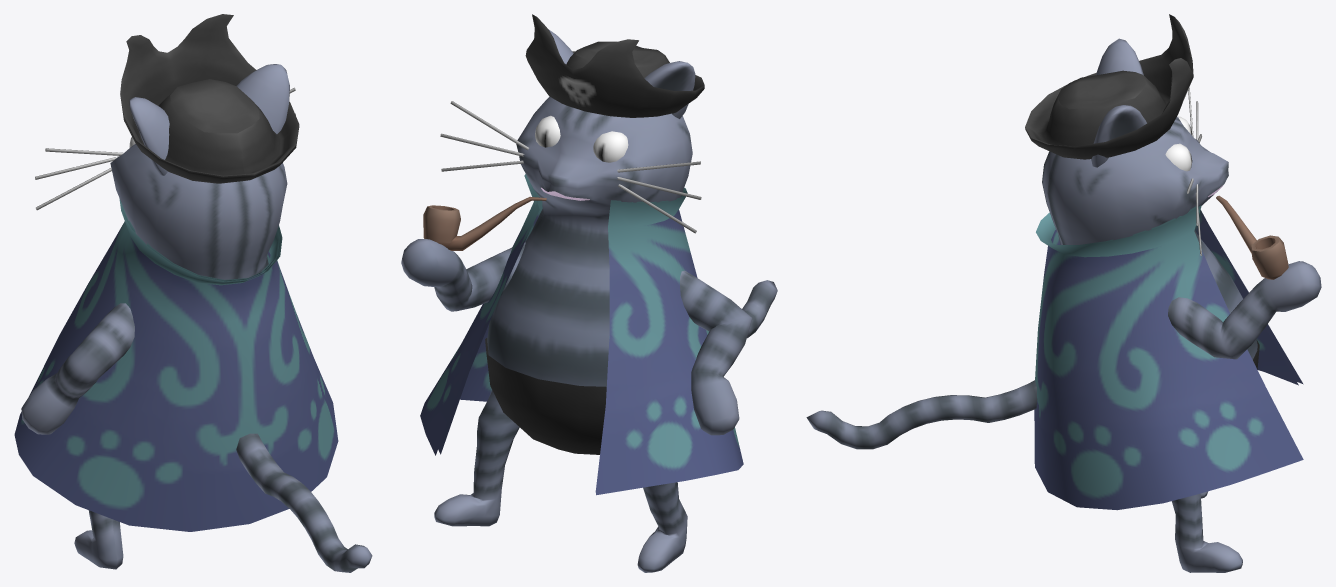
File: neko_idle_a_01.fbx
The picture shows the model from 3 angles, left to right: view 1: azimuth 30°, elevation 25°; view 2: azimuth 150°, elevation 25°; view 3: azimuth 270°, elevation 25°; orthographic projection. The views are drawn at different scales.
Visible parts, largest first — view 1: I_a_01; view 2: I_a_01; view 3: I_a_01.
Boxes of the visible parts, x1=… form: I_a_01: x1=14, y1=14, x2=372, y2=572; I_a_01: x1=401, y1=14, x2=777, y2=572; I_a_01: x1=806, y1=14, x2=1321, y2=572.
Size of the model in its own units: 1.2 by 1.94 by 1.82.
Materials: 1 (1 with a texture image).
